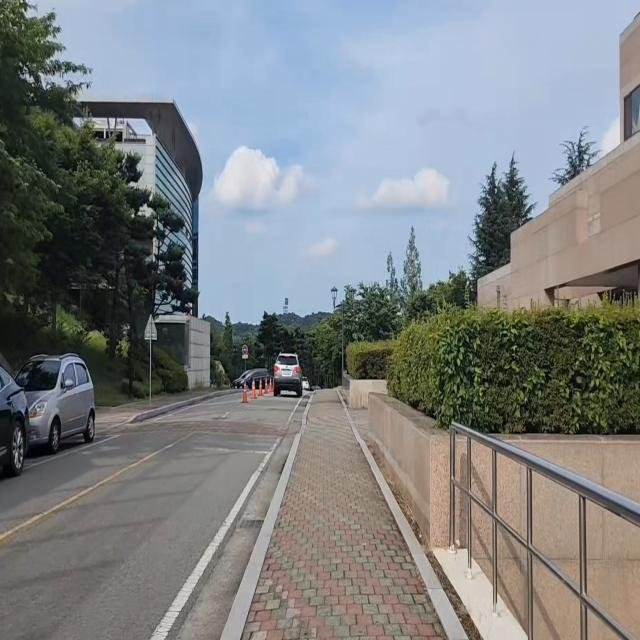obstacle: (15, 348, 102, 471), (0, 361, 34, 490), (262, 345, 306, 403)
road: (0, 383, 313, 640)
sidewalk: (233, 383, 472, 640)
